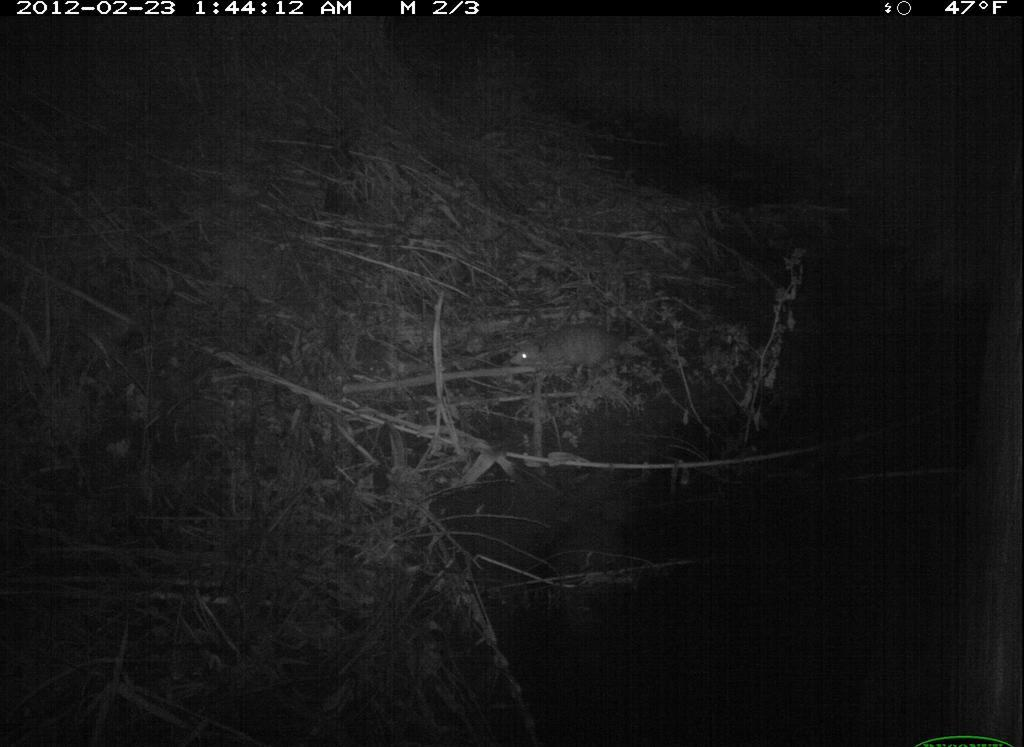opossum: (497, 313, 651, 391)
